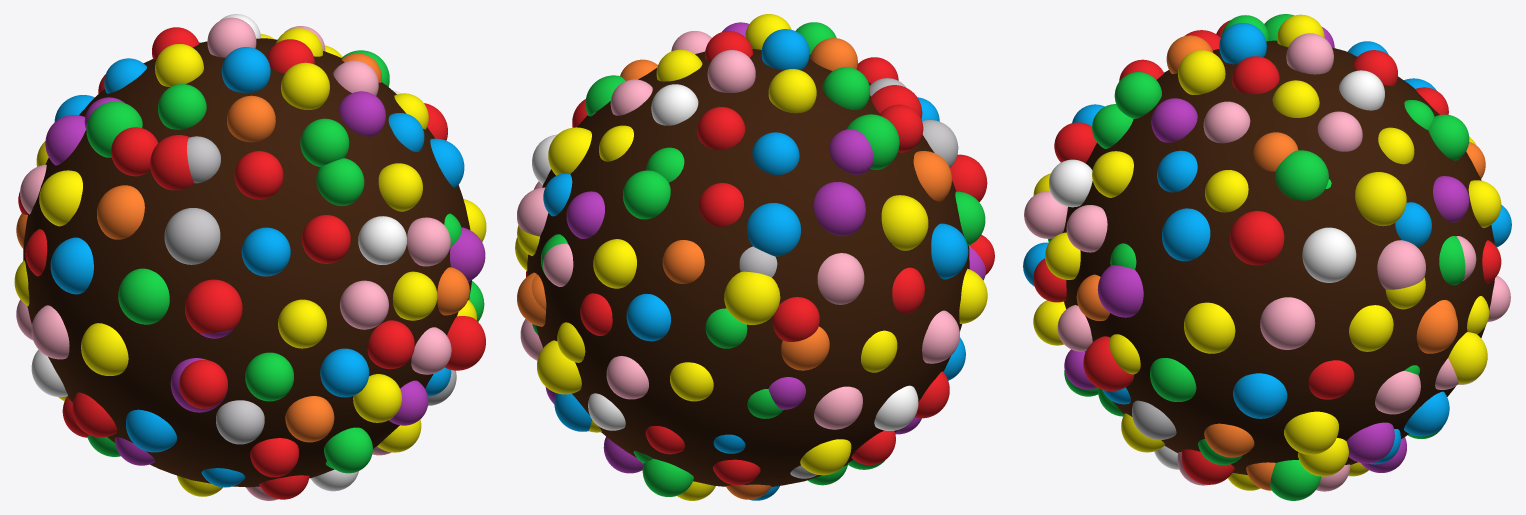
Rendered from bom.glb.
3 views of the same model, side by side, from view 1: azimuth 30°, elevation 25°; view 2: azimuth 150°, elevation 25°; view 3: azimuth 270°, elevation 25° (orthographic). The views are drawn at different scales.
Parts seen in each view (by area): view 1: node_id1_1, node_id107_107, node_id28_29, node_id133_133, node_id2_3, node_id80_81; view 2: node_id1_1, node_id28_29, node_id54_55, node_id133_133, node_id2_3, node_id80_81, node_id107_107; view 3: node_id1_1, node_id2_3, node_id133_133, node_id107_107, node_id54_55, node_id80_81, node_id28_29.
Part boxes in pixels (left/top/right/bottom): node_id1_1: left=23, top=38, right=471, bottom=487; node_id107_107: left=179, top=158, right=476, bottom=477; node_id28_29: left=14, top=95, right=242, bottom=456; node_id133_133: left=84, top=14, right=428, bottom=199; node_id2_3: left=325, top=45, right=486, bottom=405; node_id80_81: left=62, top=396, right=421, bottom=500; node_id1_1: left=527, top=49, right=969, bottom=486; node_id28_29: left=724, top=85, right=987, bottom=475; node_id54_55: left=517, top=170, right=819, bottom=463; node_id133_133: left=590, top=14, right=923, bottom=182; node_id2_3: left=515, top=75, right=625, bottom=431; node_id80_81: left=603, top=417, right=921, bottom=500; node_id107_107: left=917, top=97, right=994, bottom=274; node_id1_1: left=1063, top=40, right=1494, bottom=475; node_id2_3: left=1083, top=150, right=1487, bottom=500; node_id133_133: left=1114, top=14, right=1434, bottom=212; node_id107_107: left=1023, top=104, right=1140, bottom=404; node_id54_55: left=1385, top=87, right=1511, bottom=389; node_id80_81: left=1098, top=388, right=1443, bottom=491; node_id28_29: left=1185, top=14, right=1476, bottom=145.
Size of the model in its own units: 0.3476 by 0.3536 by 0.3577.
Materials: 26 (26 with a texture image).
